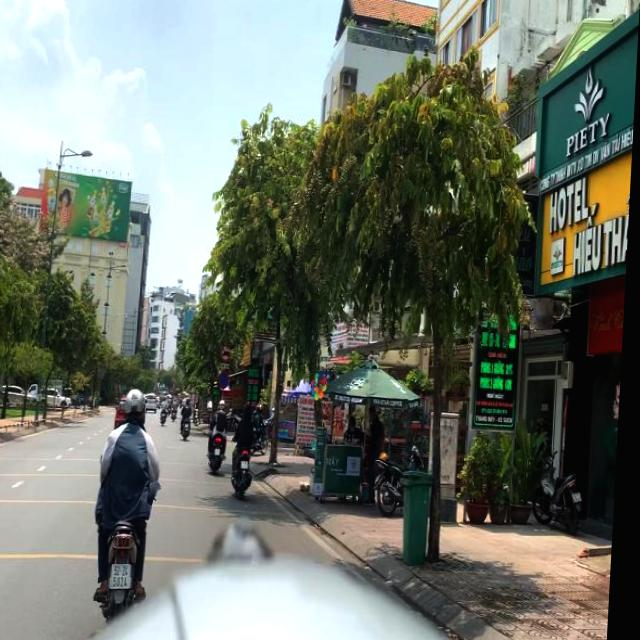Cam do xe: (222, 369, 234, 389)
Cam xe tai: (223, 342, 236, 362)
